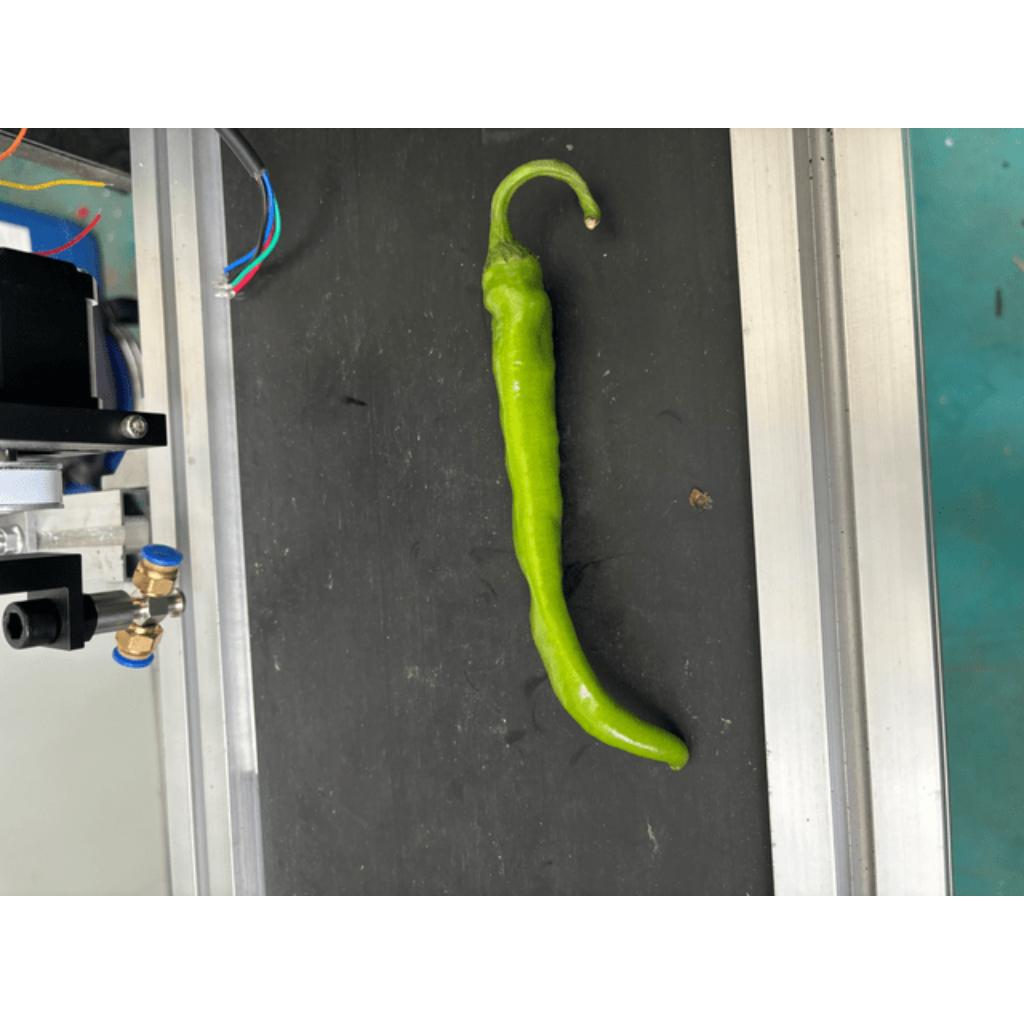chili: (474, 234, 693, 776)
